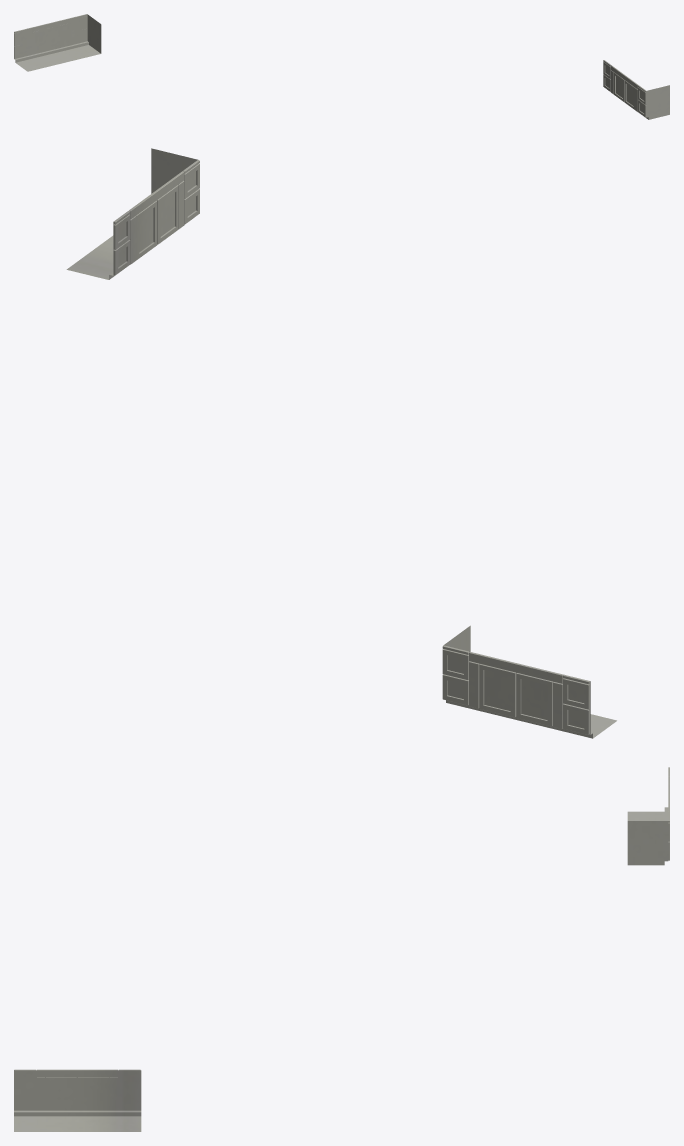
The model's file is Cabinets_Bolder_.glb.
3 renders of one model, top to bottom at view 1: azimuth 30°, elevation 25°; view 2: azimuth 150°, elevation 25°; view 3: azimuth 270°, elevation 25°, orthographic. The views are drawn at different scales.
Parts seen in each view (by area): view 1: Cabinet_bolder; view 2: Cabinet_bolder; view 3: Cabinet_bolder.
Part boxes in pixels (bbox=[...]): Cabinet_bolder: bbox=[14, 14, 669, 119]; Cabinet_bolder: bbox=[66, 148, 616, 738]; Cabinet_bolder: bbox=[14, 767, 669, 1131].
Bounding box in the file's own units: 17 × 1.1 × 14.71.
Materials: 1 (1 with a texture image).
